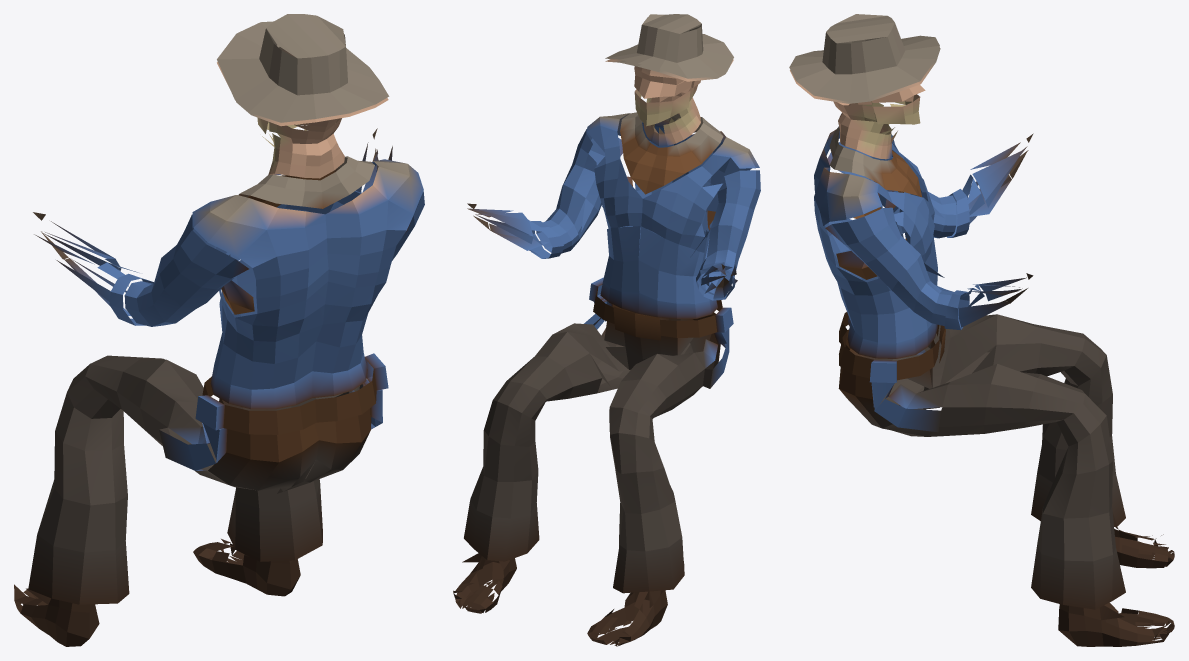
The model's file is man_2_drive.fbx.
3 views of the same model, side by side, from view 1: azimuth 30°, elevation 25°; view 2: azimuth 150°, elevation 25°; view 3: azimuth 270°, elevation 25° (orthographic). The views are drawn at different scales.
Visible parts, largest first — view 1: cowboy; view 2: cowboy; view 3: cowboy.
Part boxes in pixels (box(x1,y1,x2,y2)): cowboy: box(14, 14, 424, 646); cowboy: box(453, 14, 760, 646); cowboy: box(789, 14, 1174, 646).
Bounding box in the file's own units: 0.4327 × 0.7852 × 0.4748.
